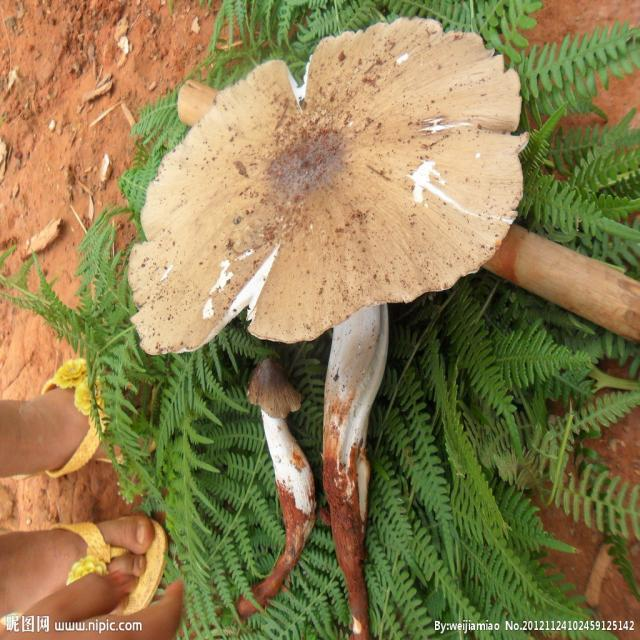Collybia albuminosa: (133, 17, 524, 633), (235, 357, 313, 613)
